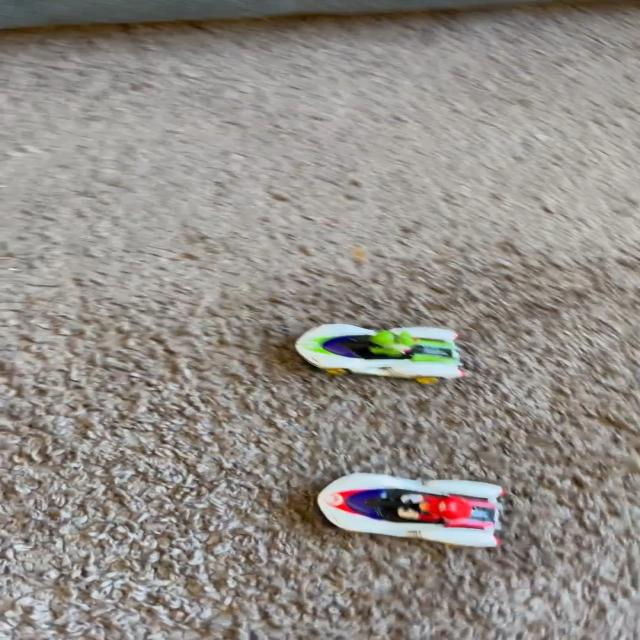mario: (307, 450, 516, 556)
yoshi: (278, 298, 476, 395)
